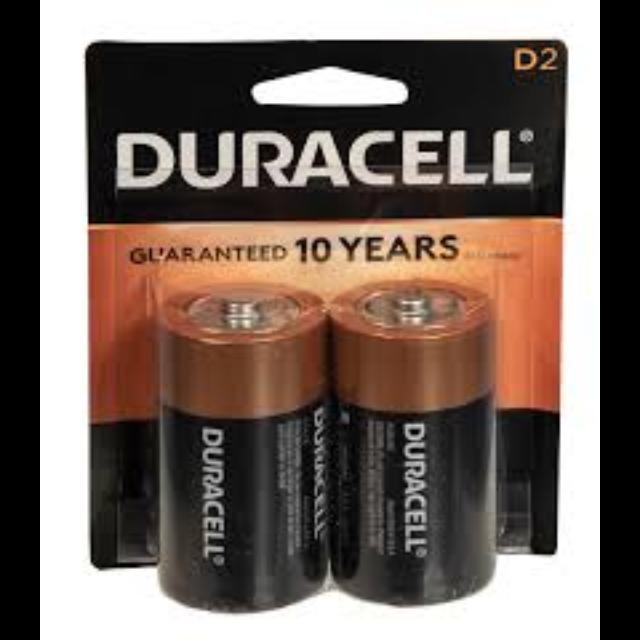Battery: (160, 285, 331, 609), (331, 283, 496, 604)
